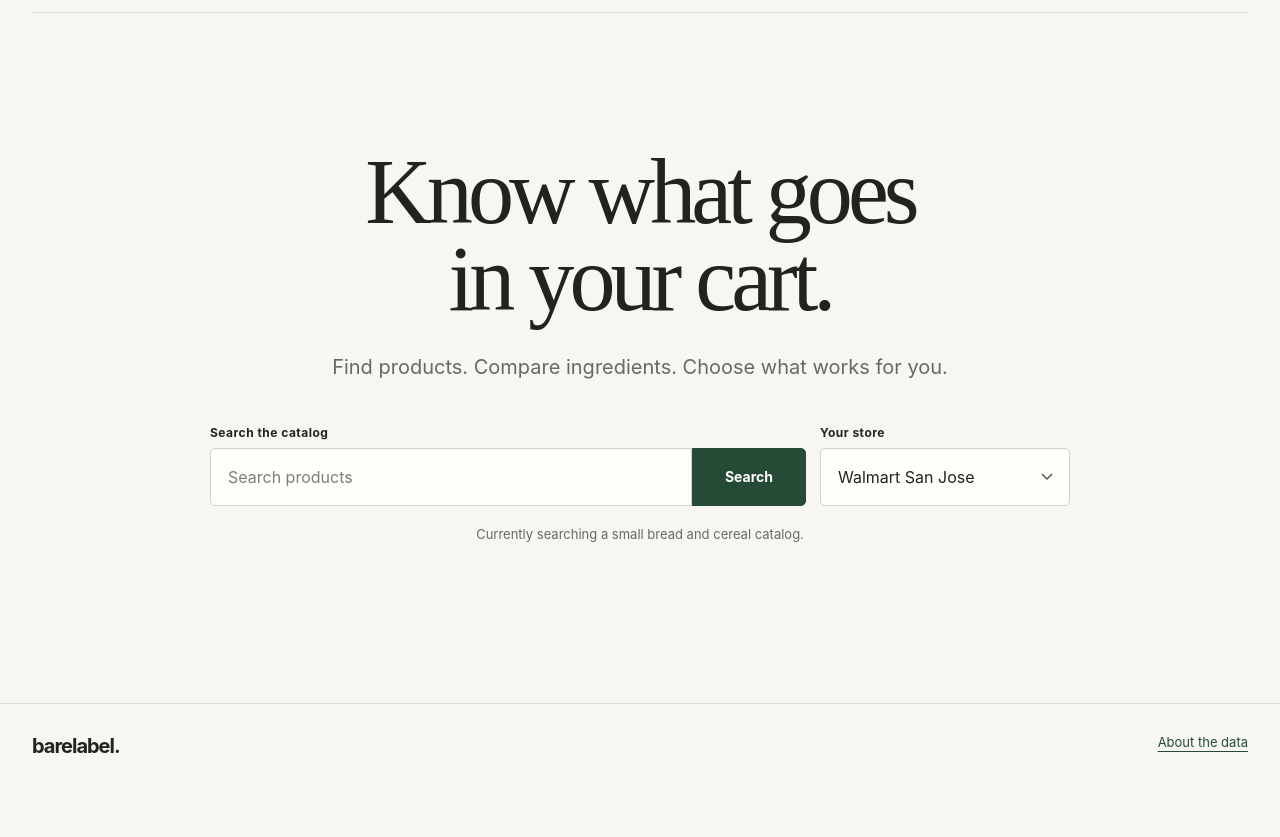
Test: search-first shopper flow › shows API failures and retries without falling back to sample results
The image size is (1280, 837).
Type "bread" into the search field labelled "Search the catalog" at (451, 477), box top-left (210, 448), bottom-right (692, 506)
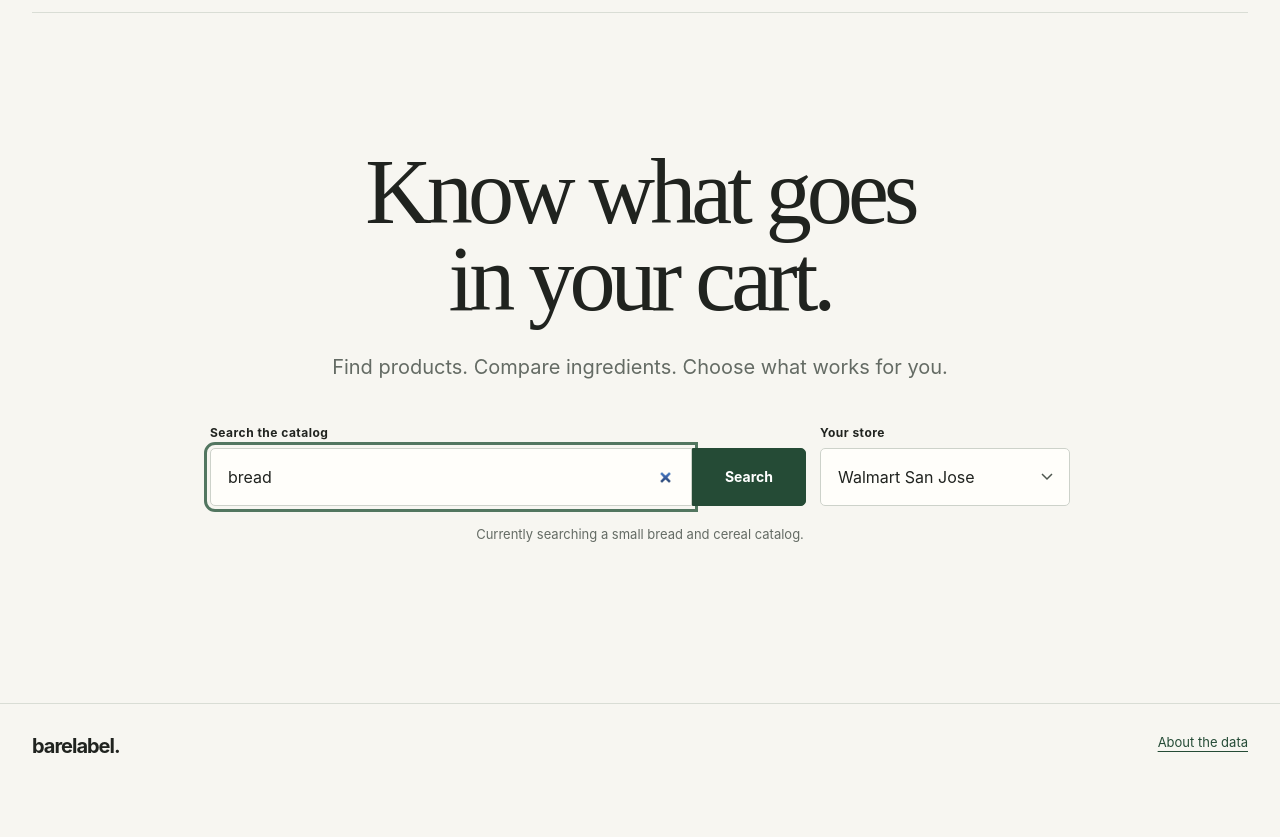
Click the button with aria-label "Search products" at (749, 477), box top-left (692, 448), bottom-right (806, 506)
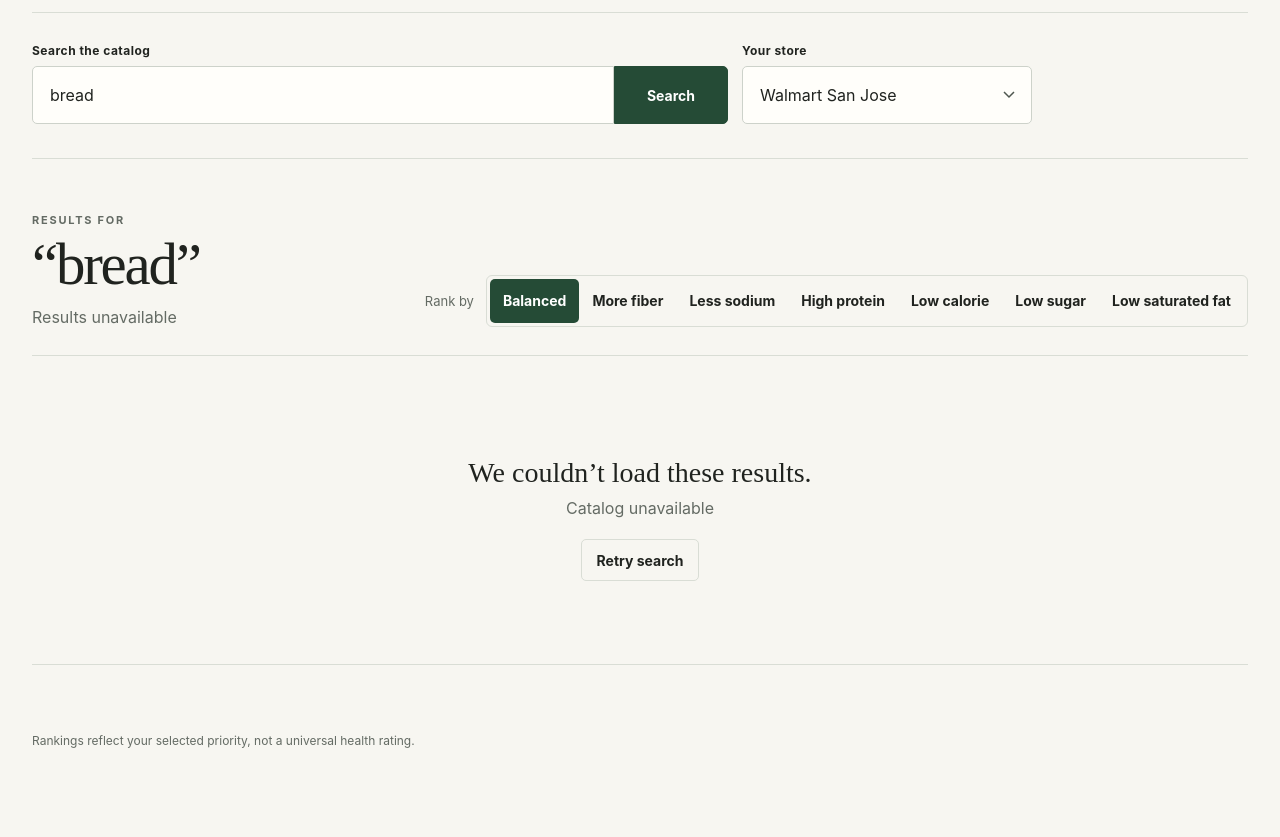
Expected: the text "Catalog unavailable" is shown, top-left (566, 496), bottom-right (714, 521)
Click the button "Retry search" at (640, 560), box top-left (580, 539), bottom-right (699, 581)
(page scrolled)
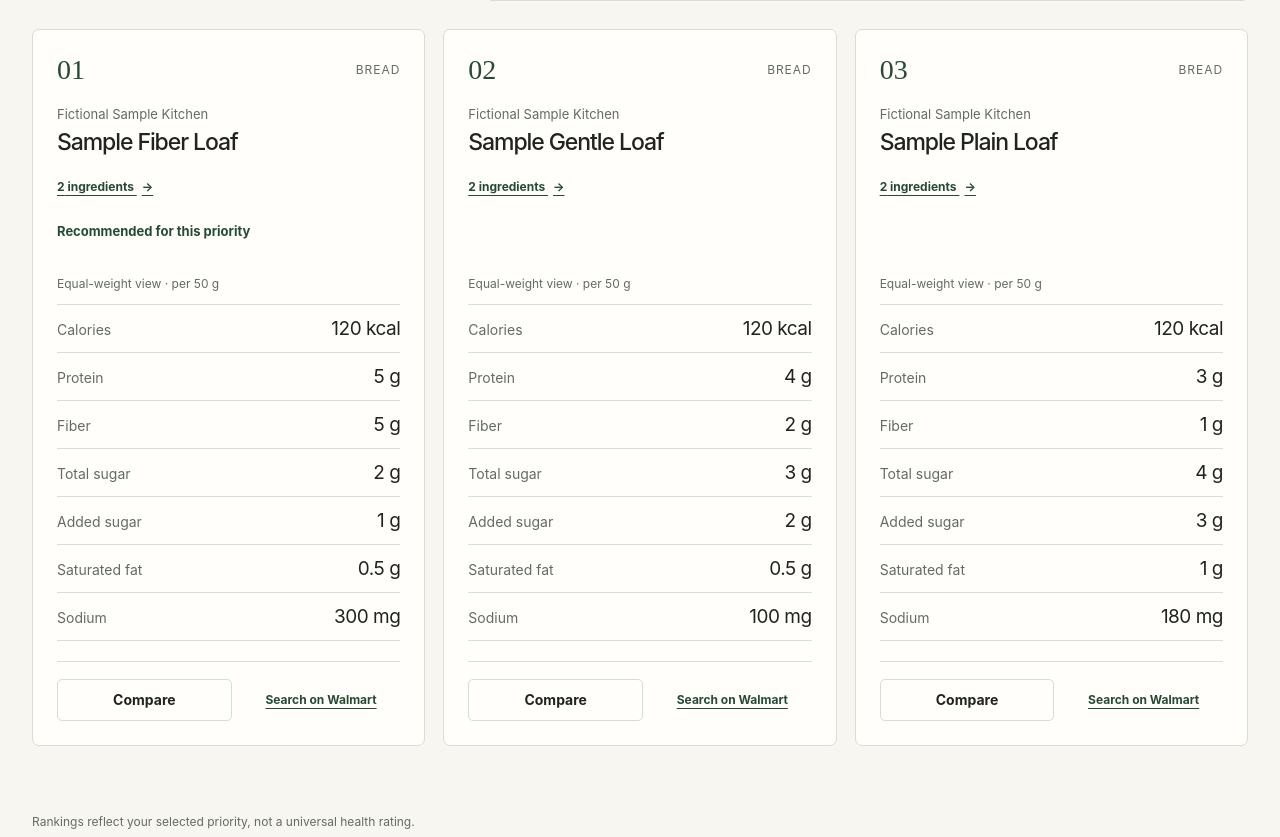
Expected: the element "Sample Fiber Loaf" is shown, top-left (32, 29), bottom-right (425, 746)
